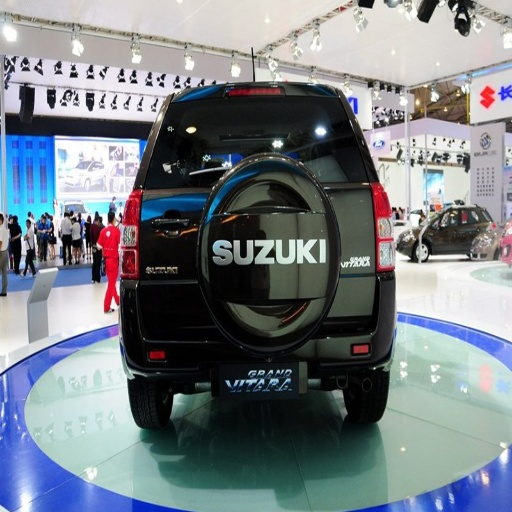back_bumper: (123, 287, 398, 379)
back_right_light: (373, 184, 395, 281)
tailgate: (210, 252, 331, 323)
trunk: (143, 182, 375, 319)
